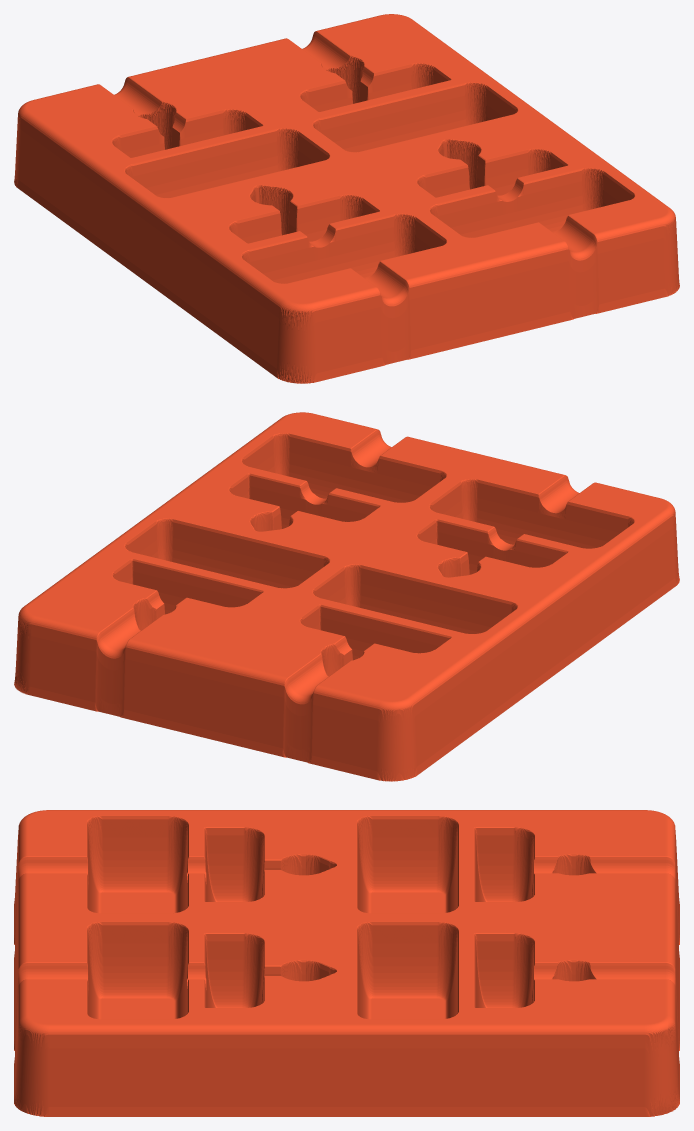
The model's file is mold.glb.
3 renders of one model, top to bottom at view 1: azimuth 30°, elevation 25°; view 2: azimuth 150°, elevation 25°; view 3: azimuth 270°, elevation 25°, orthographic. The views are drawn at different scales.
Visible parts, largest first — view 1: geometry_0; view 2: geometry_0; view 3: geometry_0.
Boxes of the visible parts, x1=… form: geometry_0: x1=14, y1=14, x2=679, y2=383; geometry_0: x1=14, y1=412, x2=679, y2=781; geometry_0: x1=14, y1=810, x2=679, y2=1116.
Bounding box in the file's own units: 0.137 × 0.0245 × 0.171.
